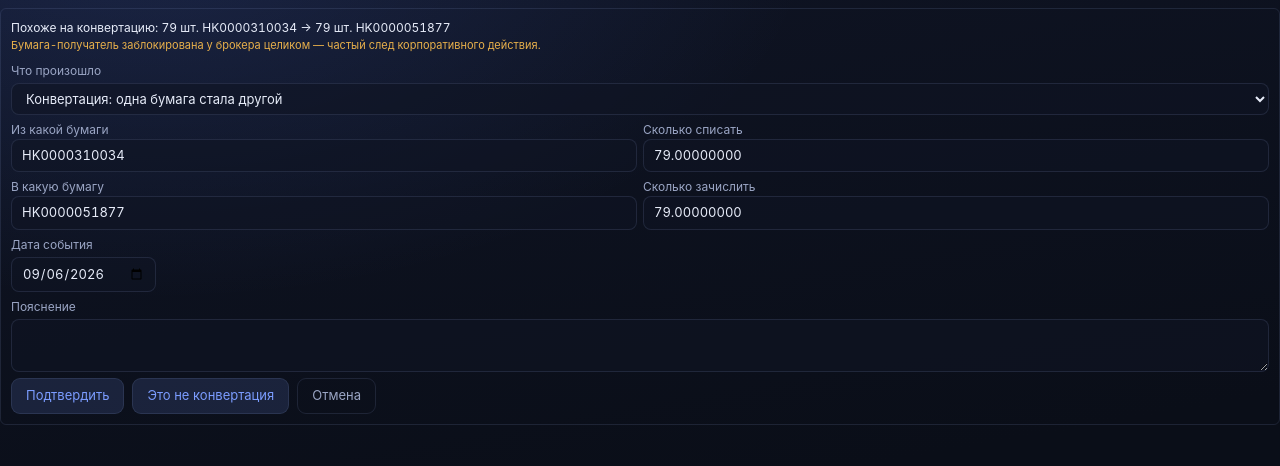
Test: DecisionPanel › не отправляет решение без пояснения
Click the button "Подтвердить" at point(68, 396), box [11, 378, 124, 414]
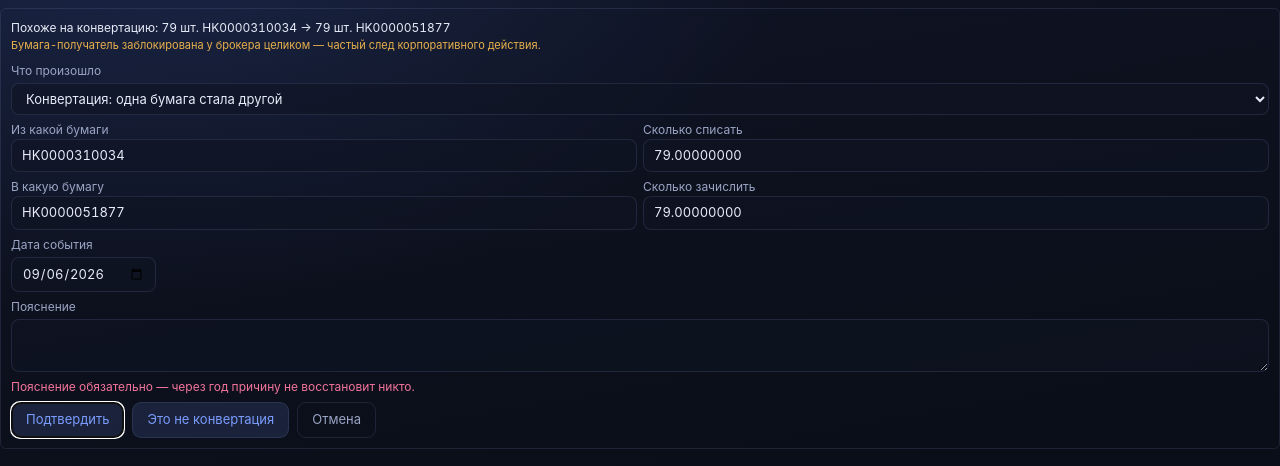
Expected: the text "Пояснение обязательно" is shown, [11, 379, 415, 394]
